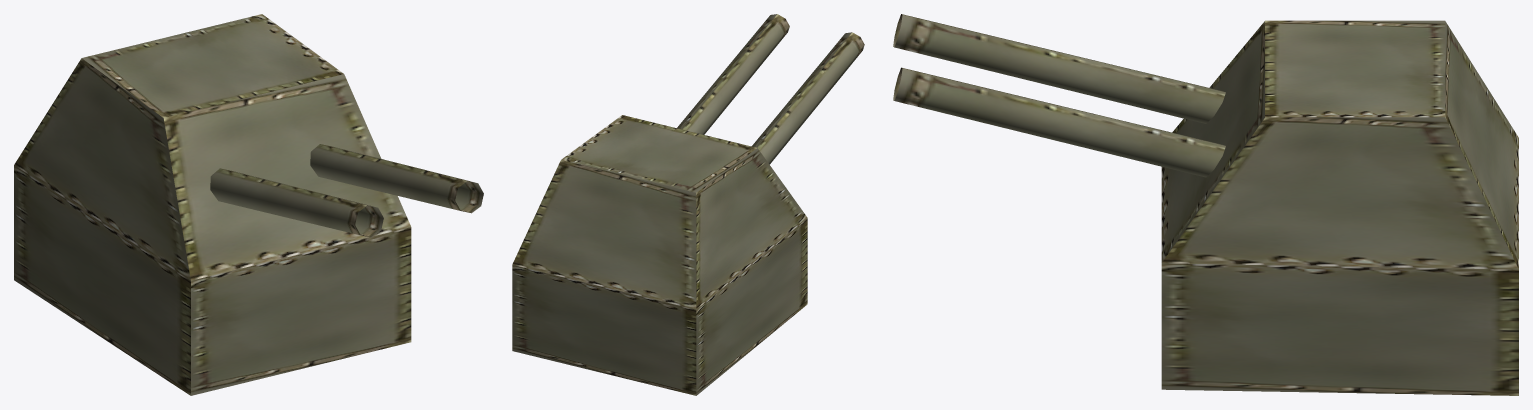
The model's file is tankaagun.gltf.
The picture shows the model from 3 angles, left to right: view 1: azimuth 30°, elevation 25°; view 2: azimuth 150°, elevation 25°; view 3: azimuth 270°, elevation 25°; orthographic projection. The views are drawn at different scales.
Parts seen in each view (by area): view 1: tankaagun_atomic0; view 2: tankaagun_atomic0; view 3: tankaagun_atomic0.
Boxes of the visible parts, x1,y1,x2,y2 form: tankaagun_atomic0: (14, 14, 483, 395); tankaagun_atomic0: (512, 14, 864, 395); tankaagun_atomic0: (893, 14, 1518, 395).
Bounding box in the file's own units: 4.4 × 4.49 × 8.84.
Materials: 1 (1 with a texture image).
